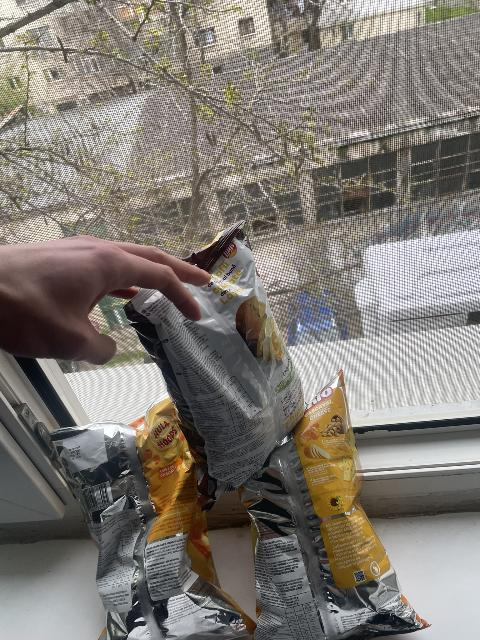Chio Cascaval 125g: (246, 369, 426, 640)
Chio Hula Hoops Cheese 70g: (49, 400, 253, 640)
Lays Beef Grilled Ribs 125g: (120, 230, 306, 509)
